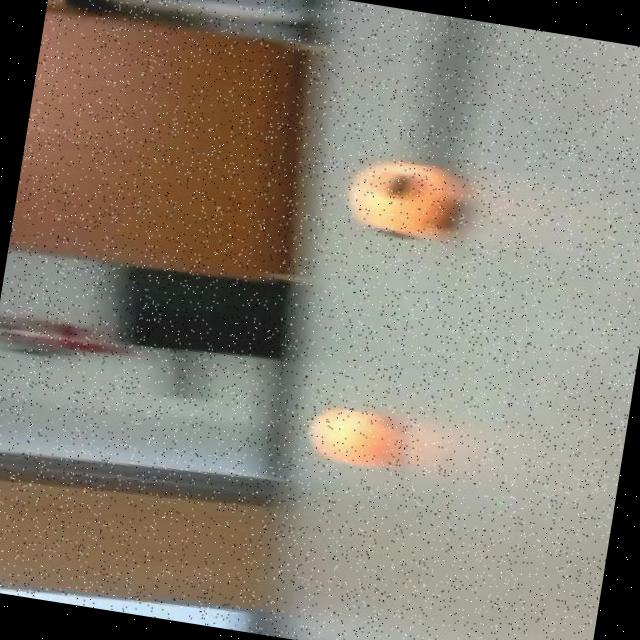ping-pong-ball: (338, 150, 473, 252), (294, 399, 404, 483)
